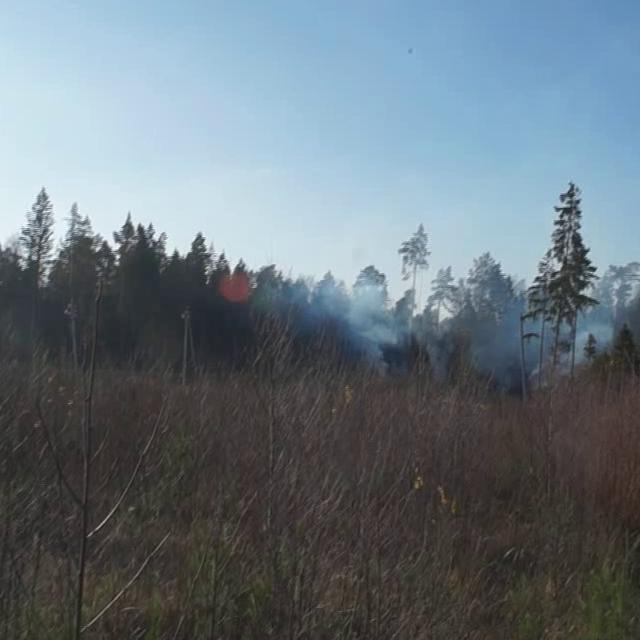Smoke: (294, 266, 639, 395)
